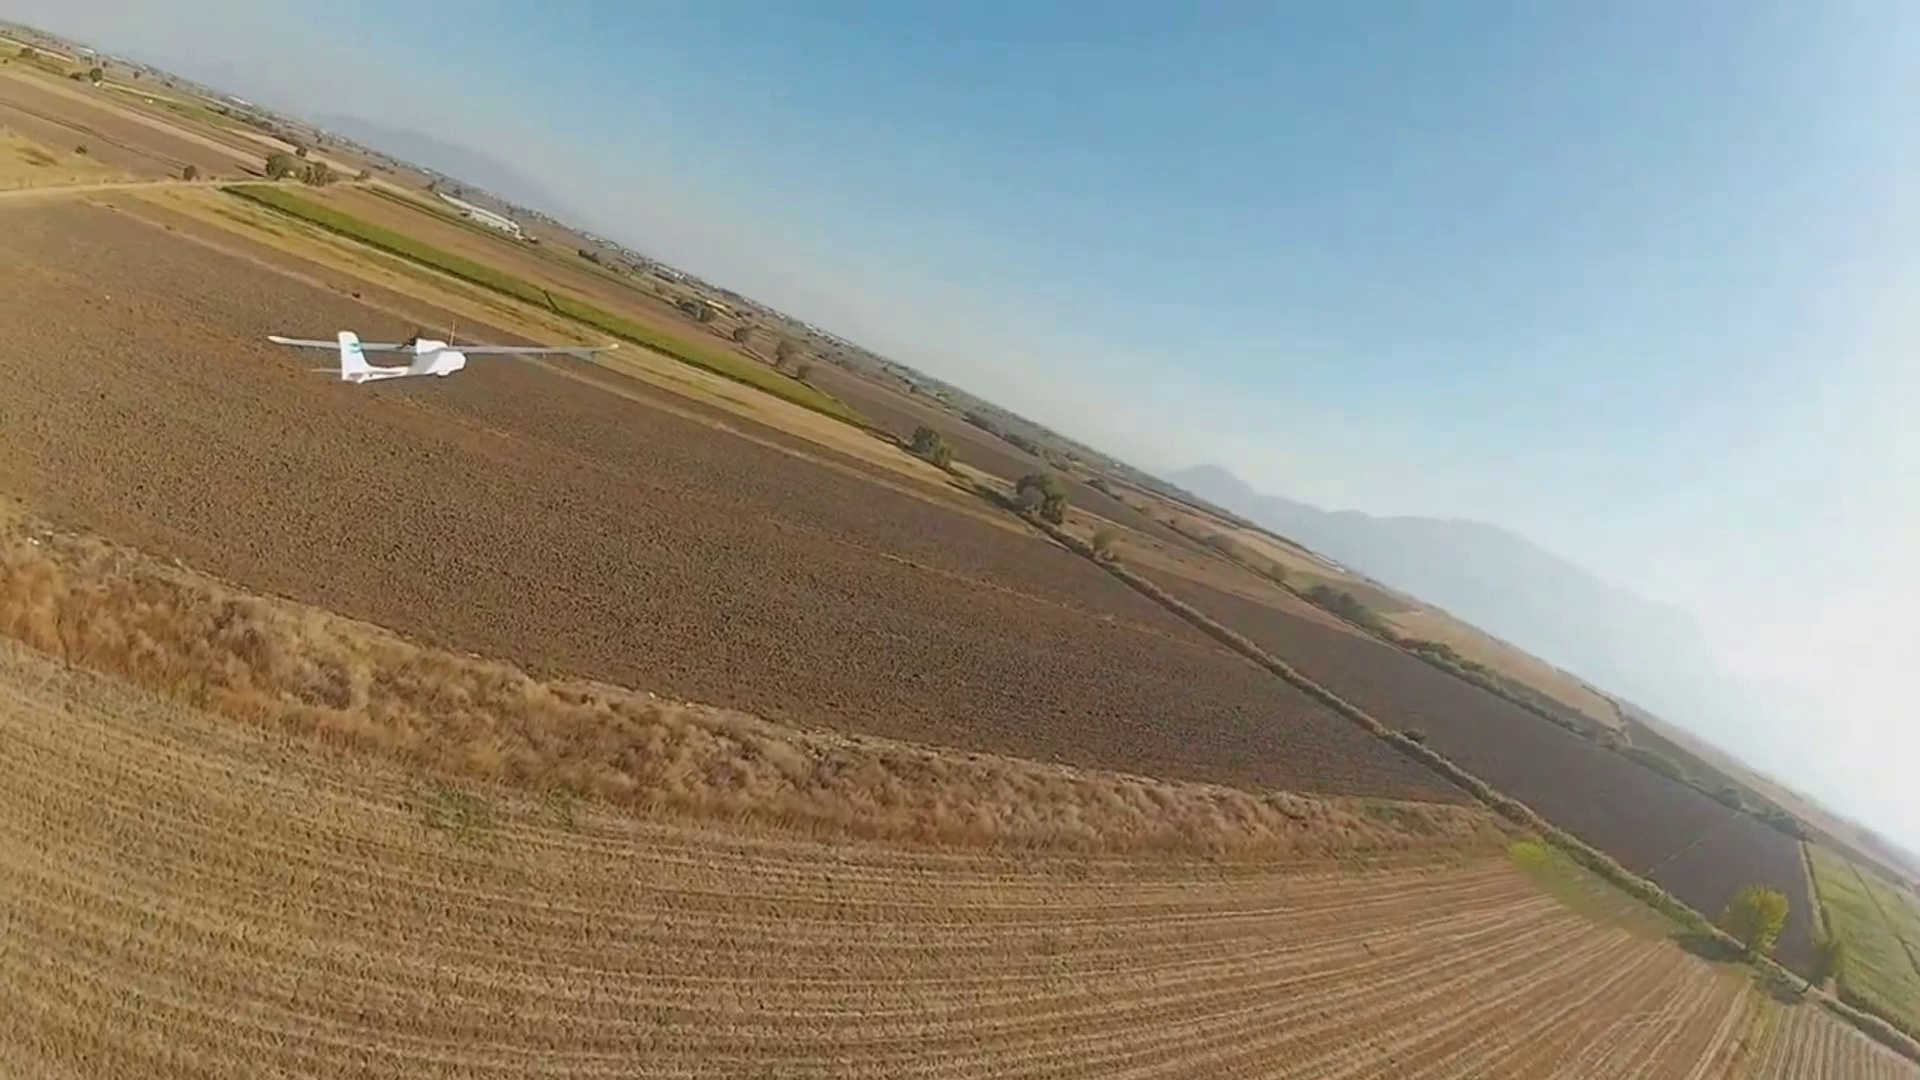airplane: (262, 327, 467, 378)
